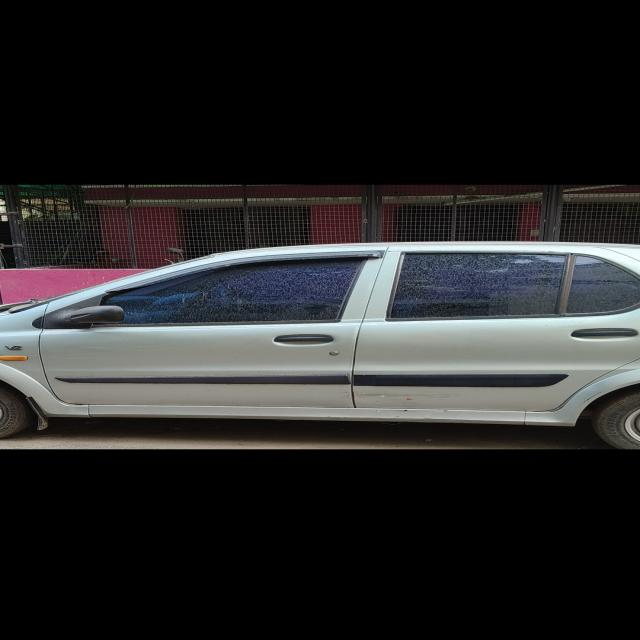scratch: (342, 391, 464, 402), (79, 346, 165, 352), (2, 351, 38, 356), (43, 356, 100, 359)
